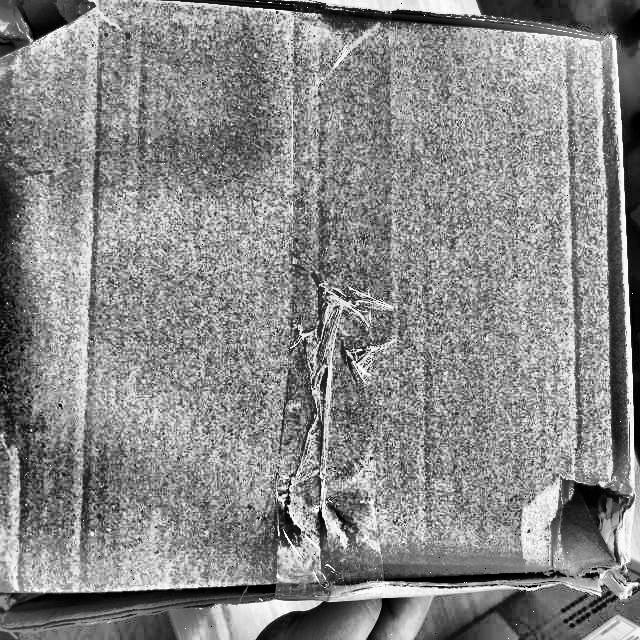box: (1, 1, 639, 634)
hole: (542, 476, 640, 572)
